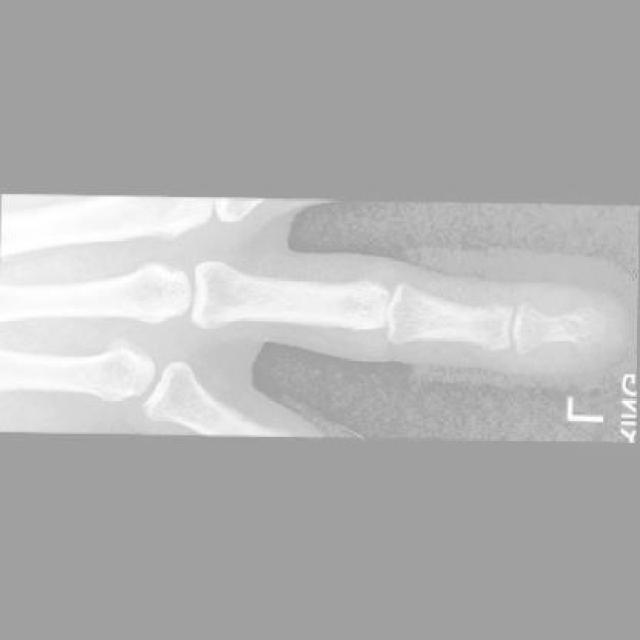Fracture: (558, 306, 614, 360)
